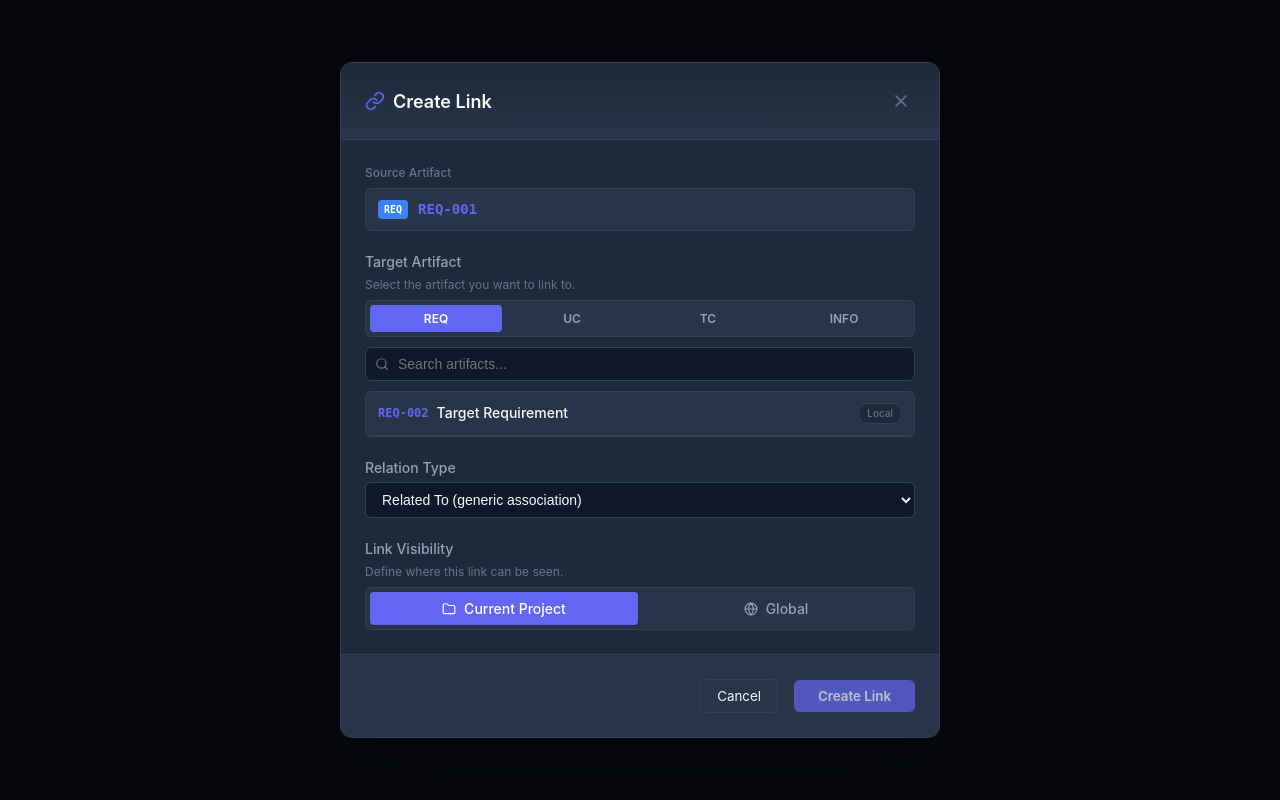
Scenario: LinkModal › should show test cases when test case type is selected
The width and height of the screenshot is (1280, 800).
Button now says "TC" instead of "Test Case"
What coordinates should you click on to do the following:
click the button "TC"
I would click on:
 (708, 318)
Its box is left=642, top=305, right=774, bottom=332.
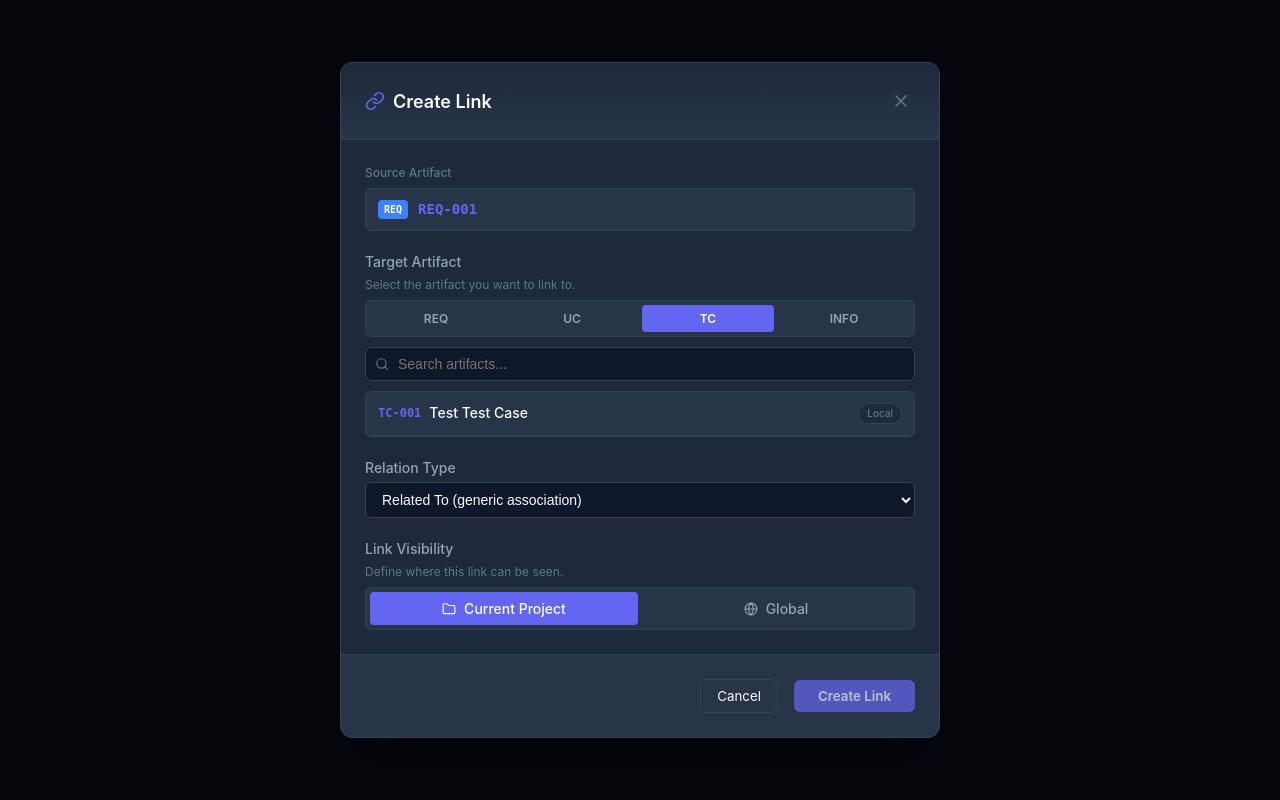
Result: the text "Test Test Case" is shown at left=429, top=402, right=528, bottom=423
